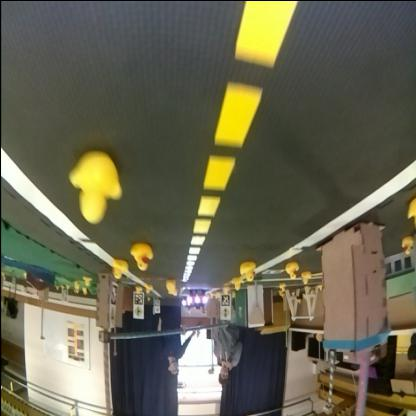Duckie: (69, 152, 121, 222), (130, 242, 152, 270), (240, 261, 256, 282), (113, 260, 127, 278), (286, 262, 298, 278), (232, 278, 243, 289), (166, 280, 176, 290), (302, 274, 310, 284), (280, 283, 286, 291), (147, 286, 152, 294), (136, 288, 142, 294)
Duckiebot: (187, 290, 208, 306)
Intersection sign: (134, 306, 142, 318)
QR code: (111, 284, 117, 305), (135, 292, 143, 304), (221, 295, 229, 306)
Signal sign: (221, 308, 230, 320)
